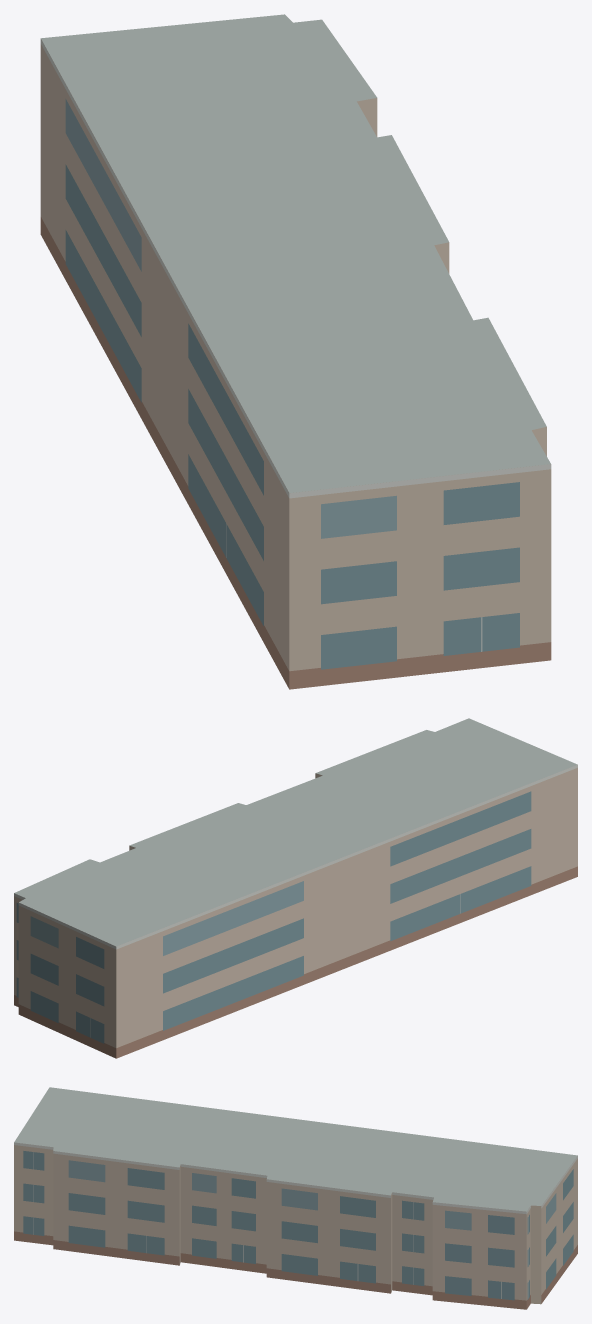
The model's file is survey-upis-33014193.glb.
3 views of the same model, one above another, from view 1: azimuth 30°, elevation 25°; view 2: azimuth 150°, elevation 25°; view 3: azimuth 270°, elevation 25° (orthographic). The views are drawn at different scales.
Visible parts, largest first — view 1: survey-upis-33014193.tmp; view 2: survey-upis-33014193.tmp; view 3: survey-upis-33014193.tmp.
Part boxes in pixels (x1,y1,x2,y2): survey-upis-33014193.tmp: (40,14,551,689); survey-upis-33014193.tmp: (14,718,577,1058); survey-upis-33014193.tmp: (14,1087,577,1309).
Size of the model in its own units: 24.88 by 9.15 by 47.65.
